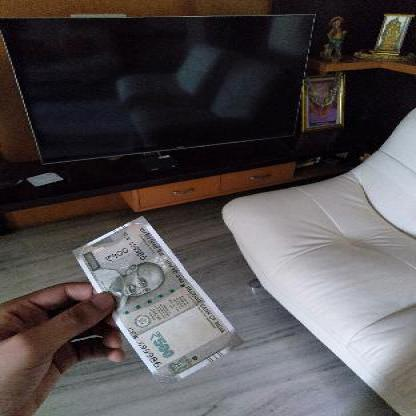New500Front: (74, 217, 235, 384)
